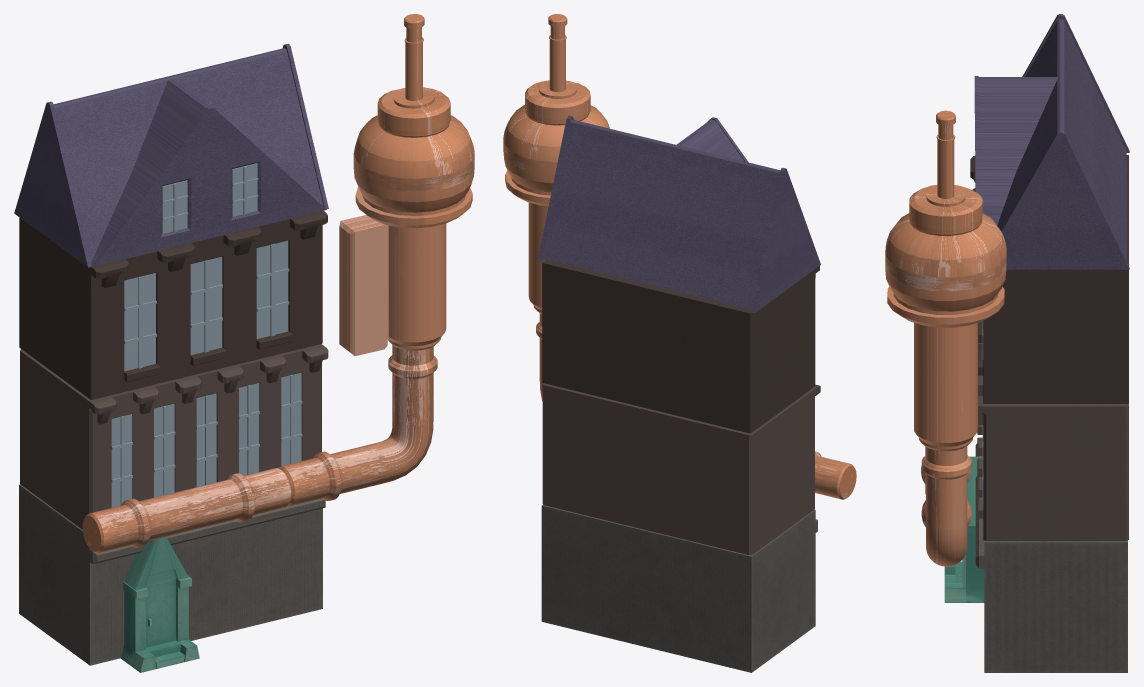
File: house3.fbx
The picture shows the model from 3 angles, left to right: view 1: azimuth 30°, elevation 25°; view 2: azimuth 150°, elevation 25°; view 3: azimuth 270°, elevation 25°; orthographic projection. The views are drawn at different scales.
Visible parts, largest first — view 1: roof, f3, pCylinder5, f, f2, pCylinder4, pCylinder1, door, pCube9, pCube8, pCube10, pCube4 (+6 smaller); view 2: roof, f3, f2, f, pCylinder5, pCylinder1; view 3: roof, pCylinder5, f2, f, f3, pCylinder4, door.
Part boxes in pixels (x1,y1,x2,y2): roof: (14,43,328,267); f3: (19,211,327,399); pCylinder5: (339,14,474,355); f: (19,484,325,665); f2: (20,344,328,529); pCylinder4: (278,345,437,506); pCylinder1: (82,468,291,553); door: (121,536,199,672); pCube9: (256,240,289,338); pCube8: (190,256,222,354); pCube10: (124,273,156,371); pCube4: (111,414,132,507); roof: (537,115,820,313); f3: (542,259,819,433); f2: (542,383,820,554); f: (541,505,817,672); pCylinder5: (503,14,609,313); pCylinder1: (815,451,856,499); roof: (974,14,1129,269); pCylinder5: (885,110,1006,451); f2: (977,343,1128,540); f: (975,443,1127,672); f3: (970,155,1128,403); pCylinder4: (921,446,971,566); door: (944,456,984,602).
Size of the model in its own units: 20.35 by 30.54 by 11.38.
